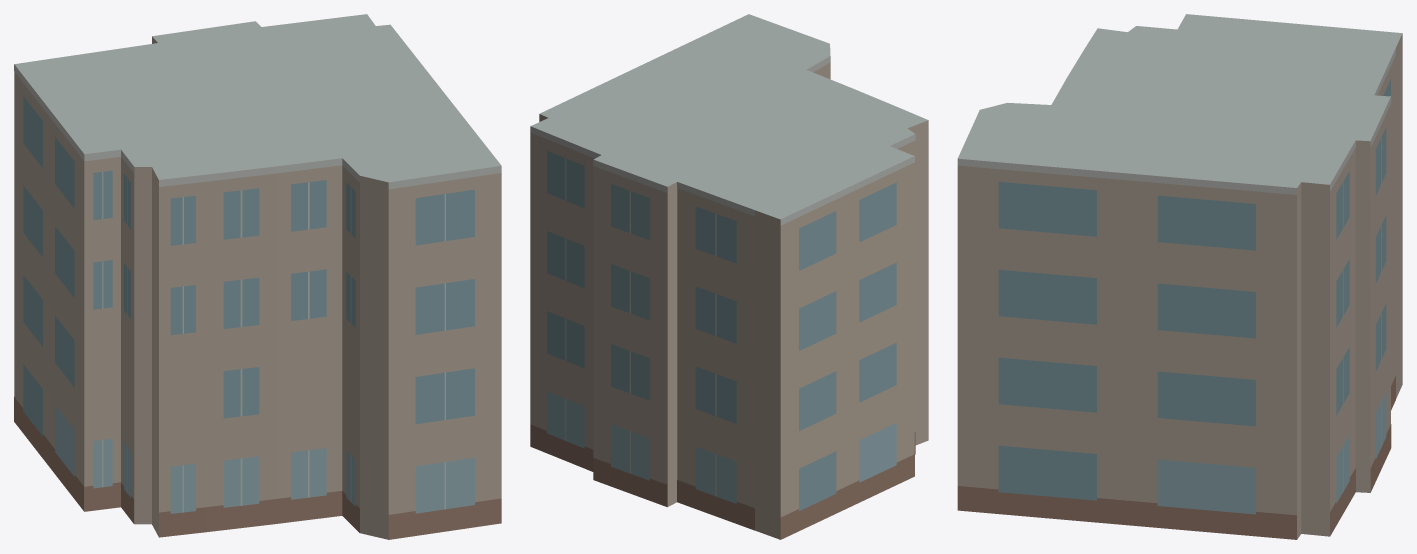
Rendered from survey-upis-32684260.glb.
3 views of the same model, side by side, from view 1: azimuth 30°, elevation 25°; view 2: azimuth 150°, elevation 25°; view 3: azimuth 270°, elevation 25° (orthographic). The views are drawn at different scales.
Parts seen in each view (by area): view 1: survey-upis-32684260.tmp; view 2: survey-upis-32684260.tmp; view 3: survey-upis-32684260.tmp.
Part boxes in pixels (x1,y1,x2,y2): survey-upis-32684260.tmp: (14,14,501,539); survey-upis-32684260.tmp: (530,14,928,539); survey-upis-32684260.tmp: (957,14,1402,539).
Size of the model in its own units: 13.17 by 12.4 by 14.22.
